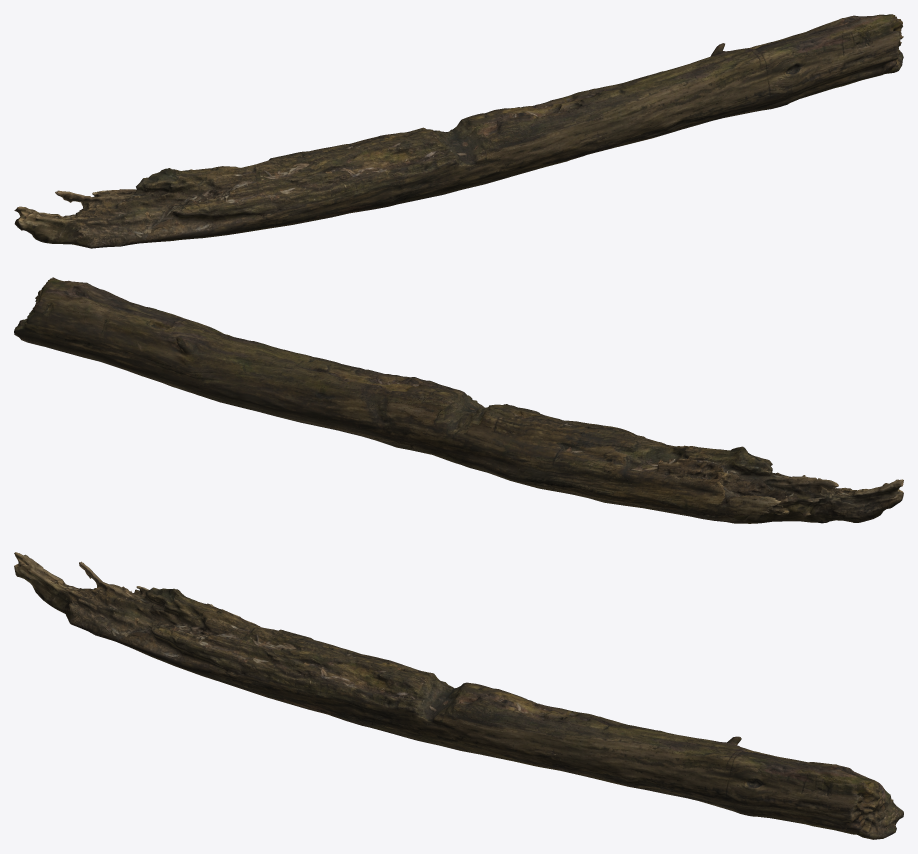
Rendered from dead_tree_trunk.glb.
3 views of the same model, one above another, from view 1: azimuth 30°, elevation 25°; view 2: azimuth 150°, elevation 25°; view 3: azimuth 330°, elevation 25° (orthographic).
Visible parts, largest first — view 1: dead_tree_trunk; view 2: dead_tree_trunk; view 3: dead_tree_trunk.
Boxes of the visible parts, bbox=[...] form: dead_tree_trunk: bbox=[14, 14, 903, 248]; dead_tree_trunk: bbox=[14, 277, 903, 523]; dead_tree_trunk: bbox=[14, 552, 903, 839].
Bounding box in the file's own units: 3.05 × 0.2905 × 0.2769.
1 material, 1 textured.
